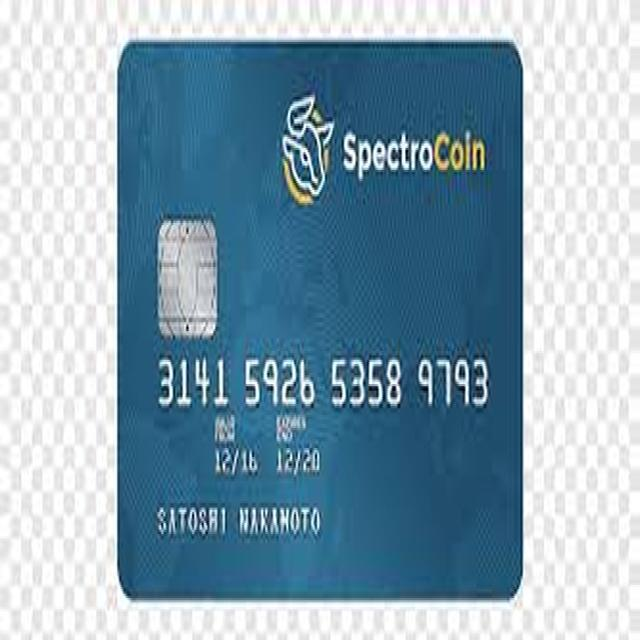card: (115, 52, 529, 596)
